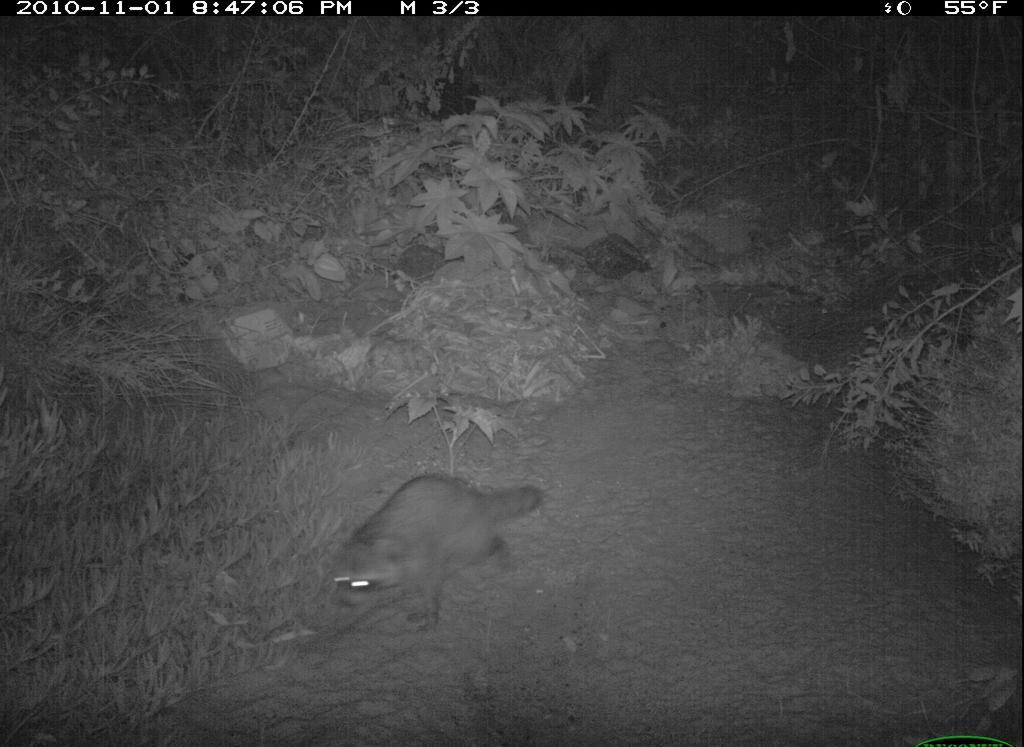raccoon: (314, 458, 573, 649)
